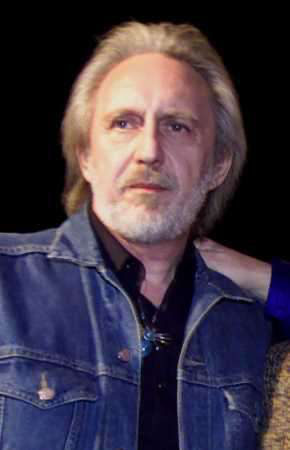Face: (92, 59, 212, 245)
